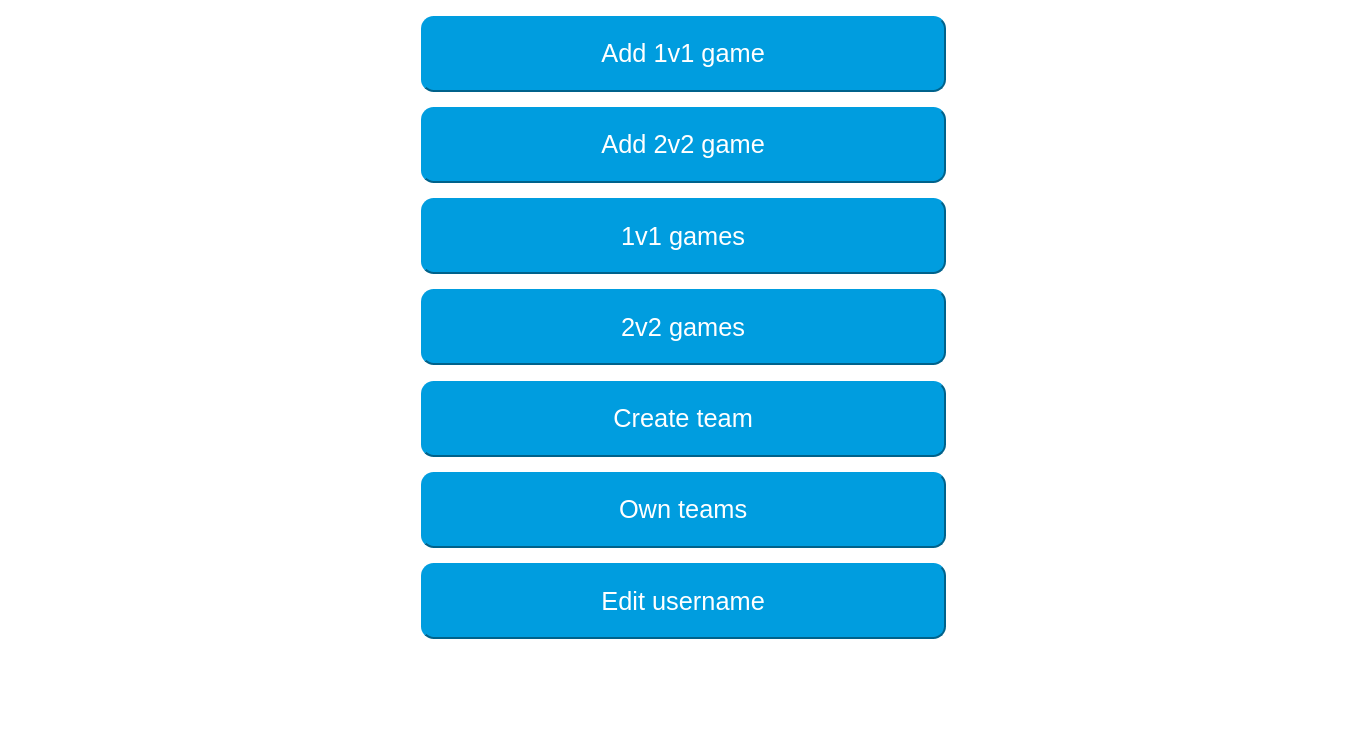
Test: renders create team page
(page scrolled)
Click the button "Create team" at (683, 419), box [420,381,946,457]
(page scrolled)
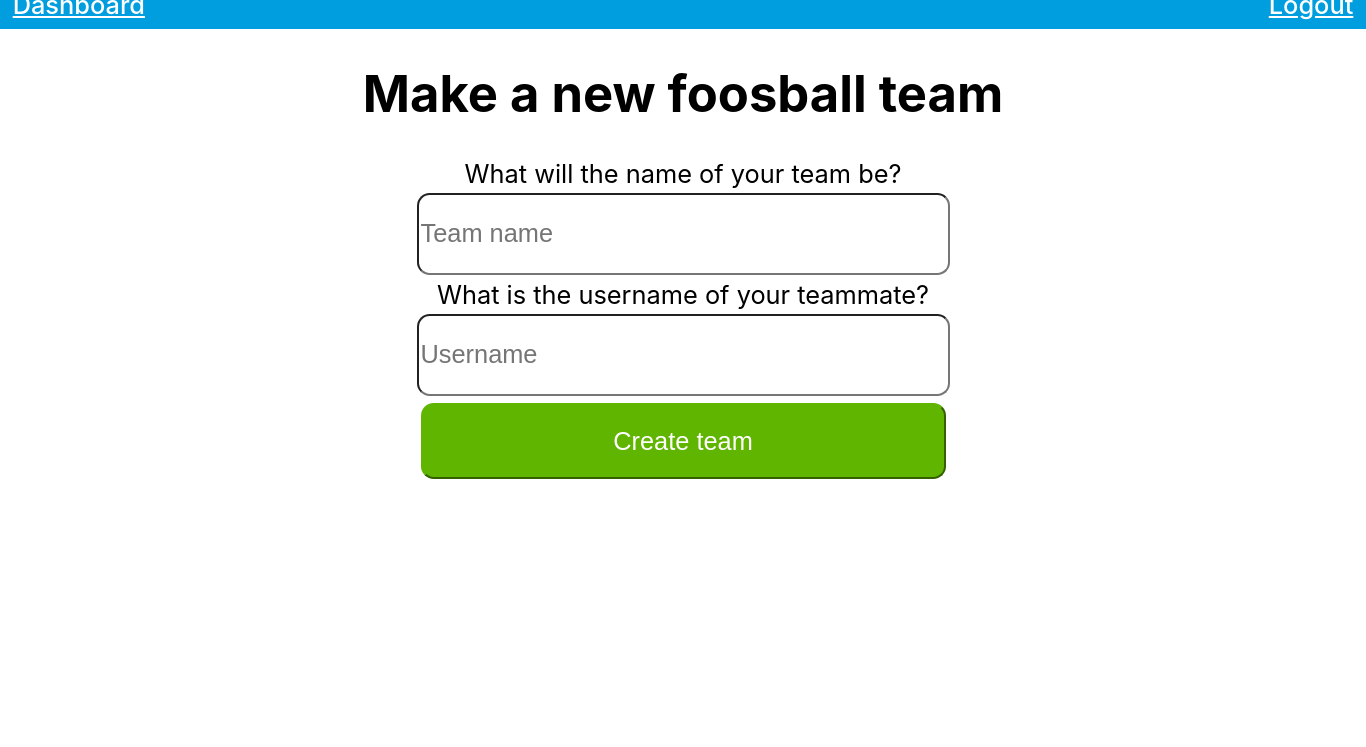
Result: the heading "Make a new foosball team" is shown at [333,63,1033,124]
